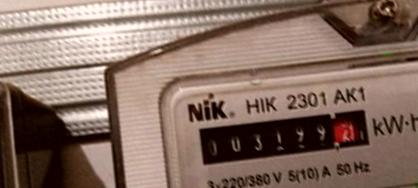0: (231, 132, 244, 153), (208, 136, 219, 155)
1: (274, 125, 285, 144)
3: (253, 130, 264, 151)
6: (341, 126, 352, 141)
9: (295, 122, 307, 143), (317, 122, 329, 141)
screen: (192, 99, 378, 171)
